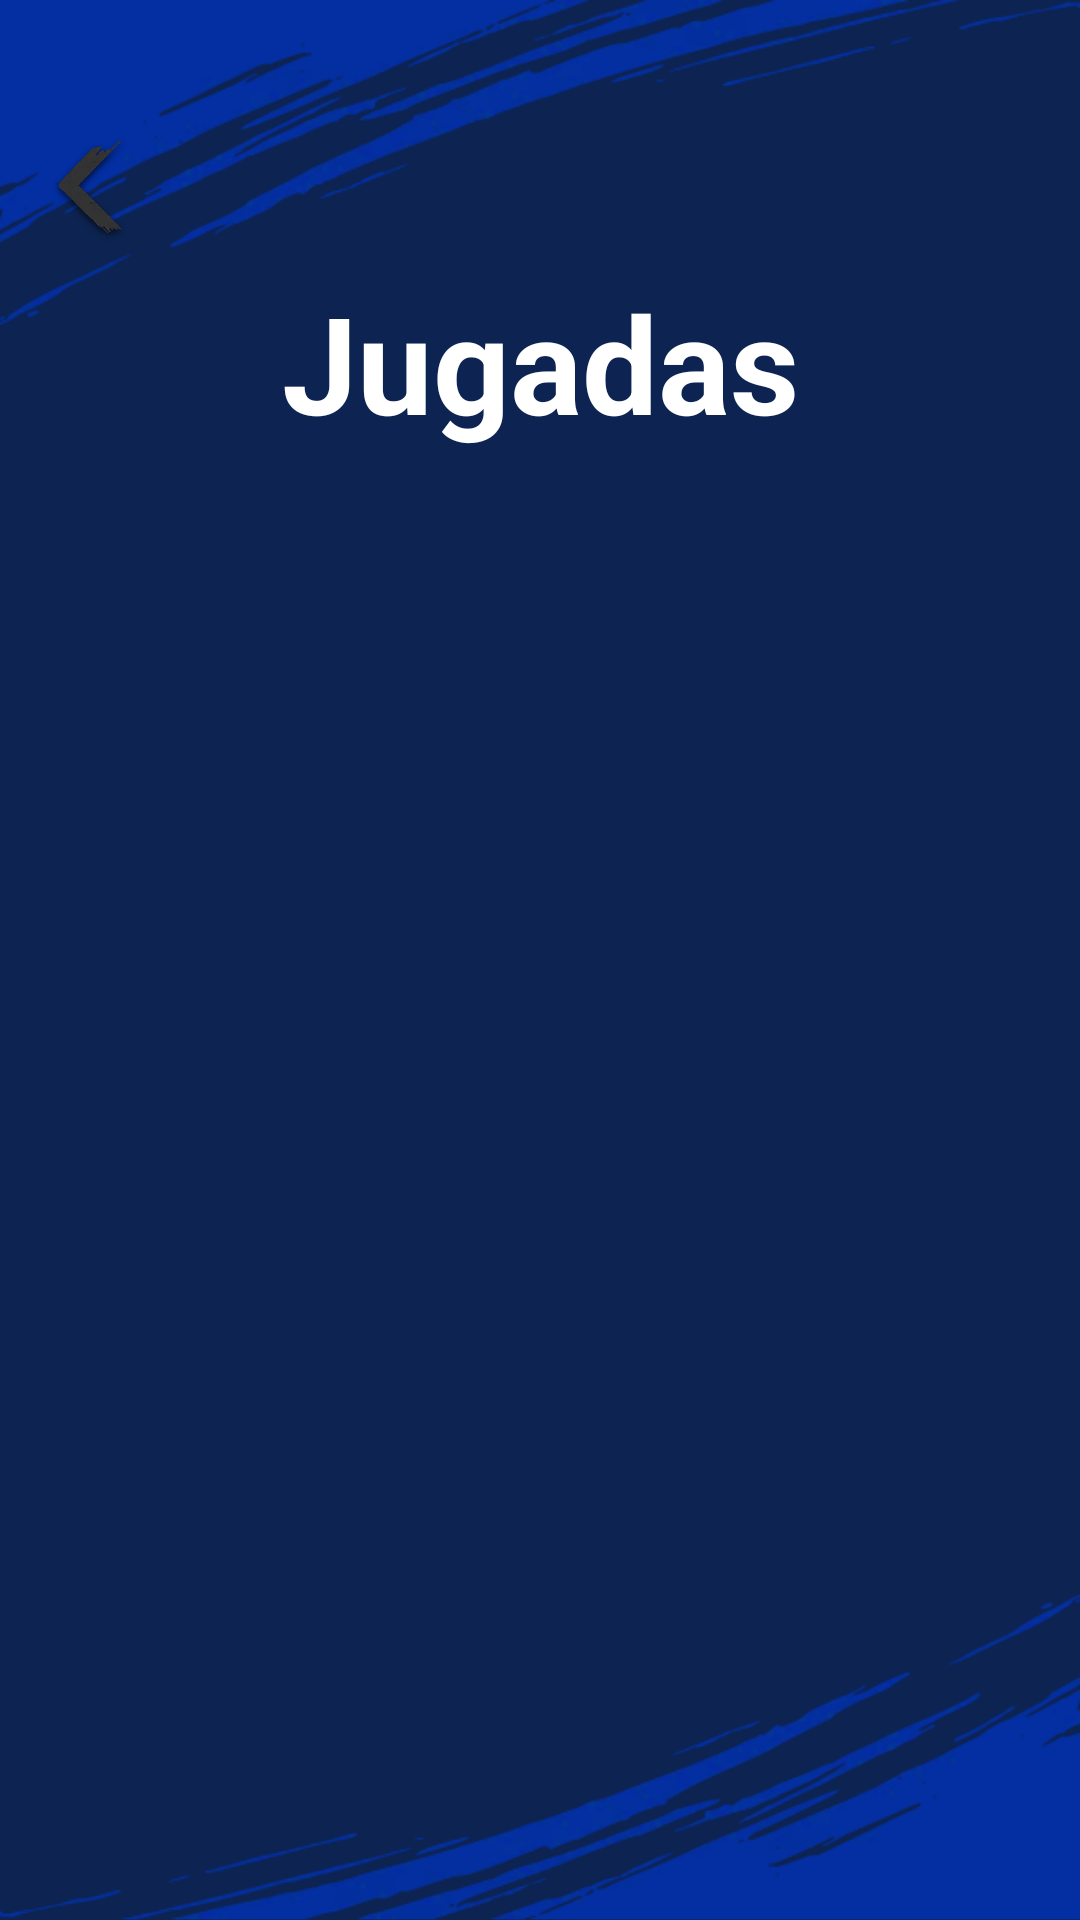

Screen size 1080 x 1920. Icon name, then its center in pixels as point (x, y):
back arrow: point (90, 190)
